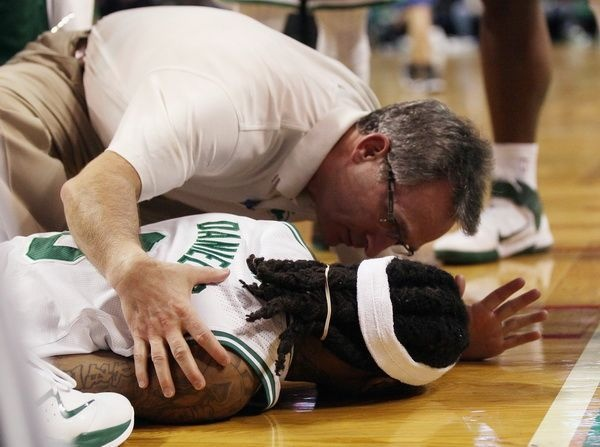falling: (15, 194, 520, 434)
